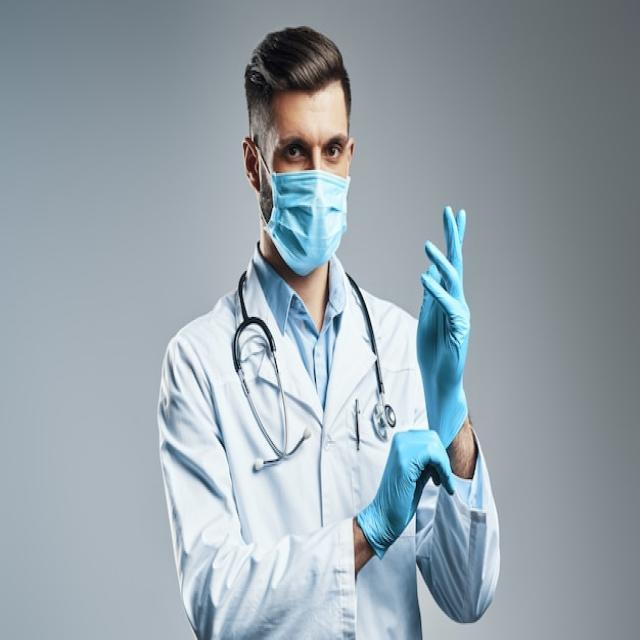Gloves: (416, 182, 486, 469), (354, 422, 455, 562)
Mask: (238, 133, 361, 291)
